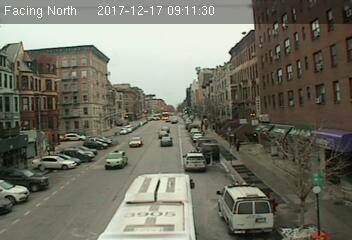bus: (93, 173, 200, 240)
car: (104, 149, 130, 170), (159, 134, 174, 149), (129, 136, 144, 148)
police: (215, 181, 276, 236), (181, 150, 208, 173)
